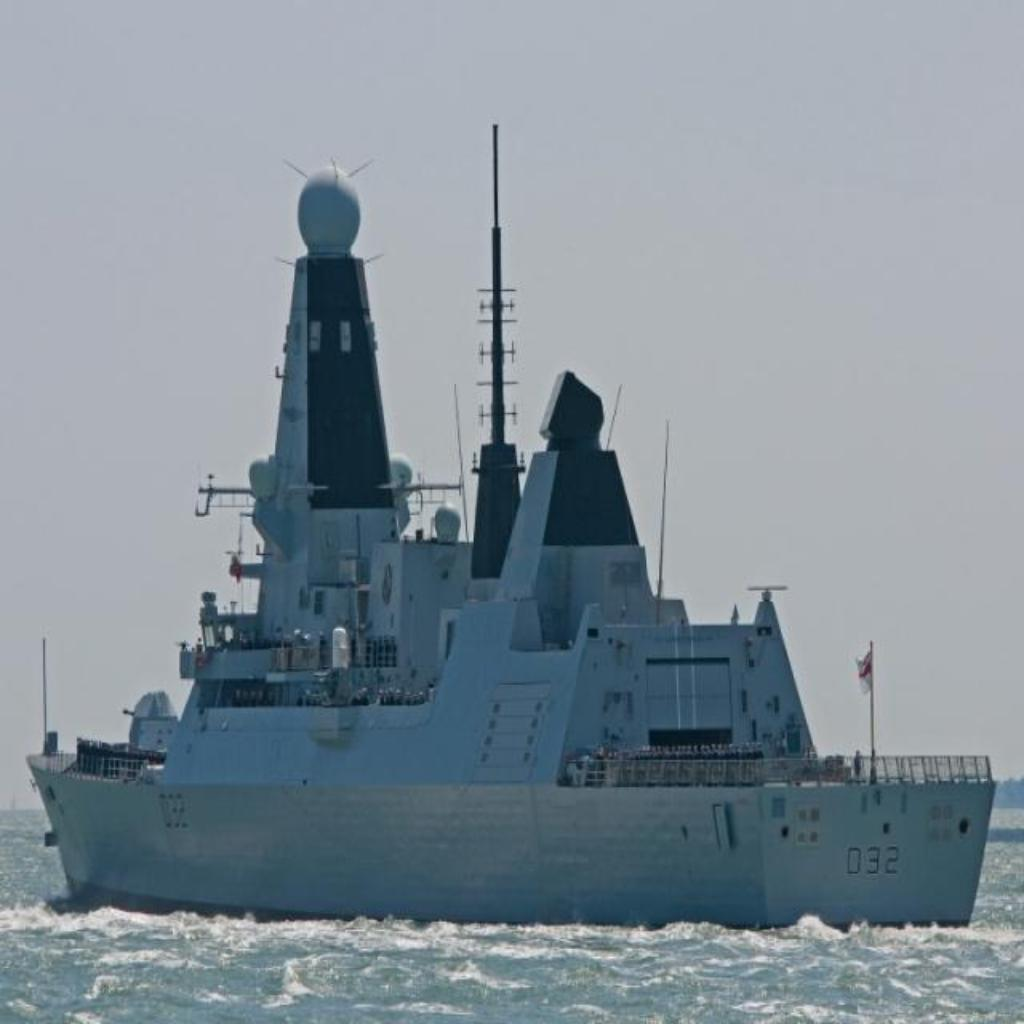Warship: (22, 108, 1006, 944)
